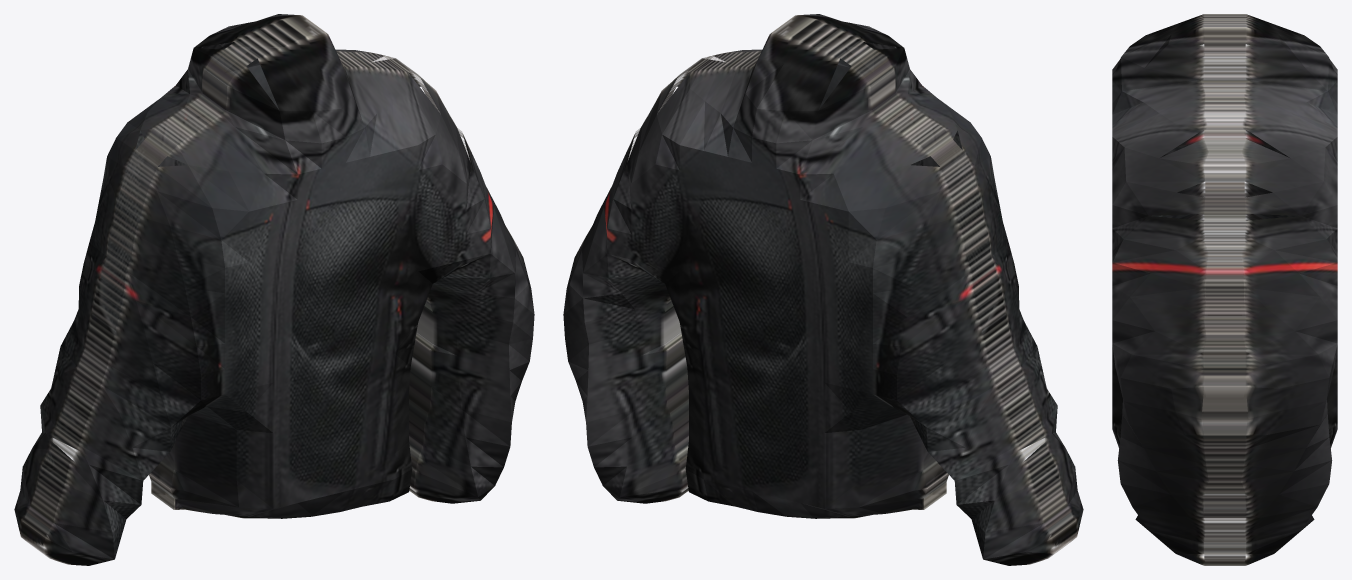
The model's file is shoei-circuit-adventure-jacket-029.glb.
The picture shows the model from 3 angles, left to right: view 1: azimuth 30°, elevation 25°; view 2: azimuth 150°, elevation 25°; view 3: azimuth 270°, elevation 25°; orthographic projection. The views are drawn at different scales.
Visible parts, largest first — view 1: world; view 2: world; view 3: world.
Boxes of the visible parts, x1=… form: world: x1=14, y1=14, x2=534, y2=565; world: x1=563, y1=14, x2=1083, y2=565; world: x1=1112, y1=14, x2=1337, y2=565.
Bounding box in the file's own units: 1 × 1 × 0.44.
1 material, 1 textured.
